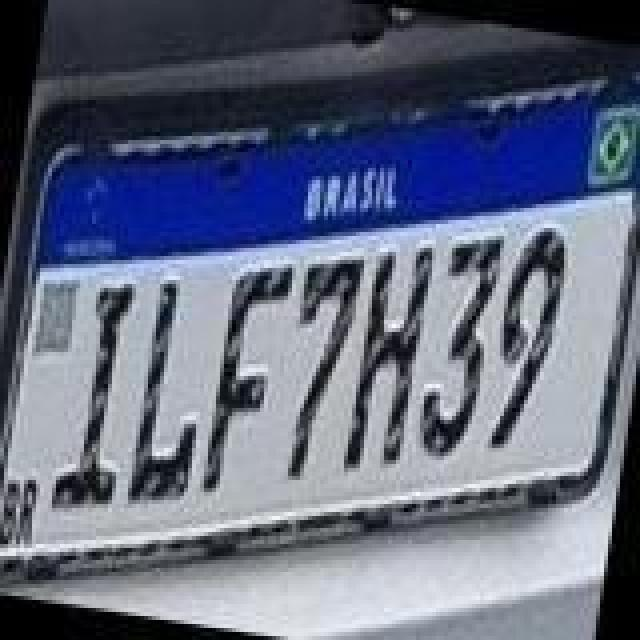3: (408, 222, 504, 466)
7: (272, 248, 368, 488)
9: (480, 214, 576, 458)
F: (200, 252, 296, 500)
H: (334, 234, 434, 486)
I: (46, 272, 146, 520)
L: (128, 274, 224, 510)
